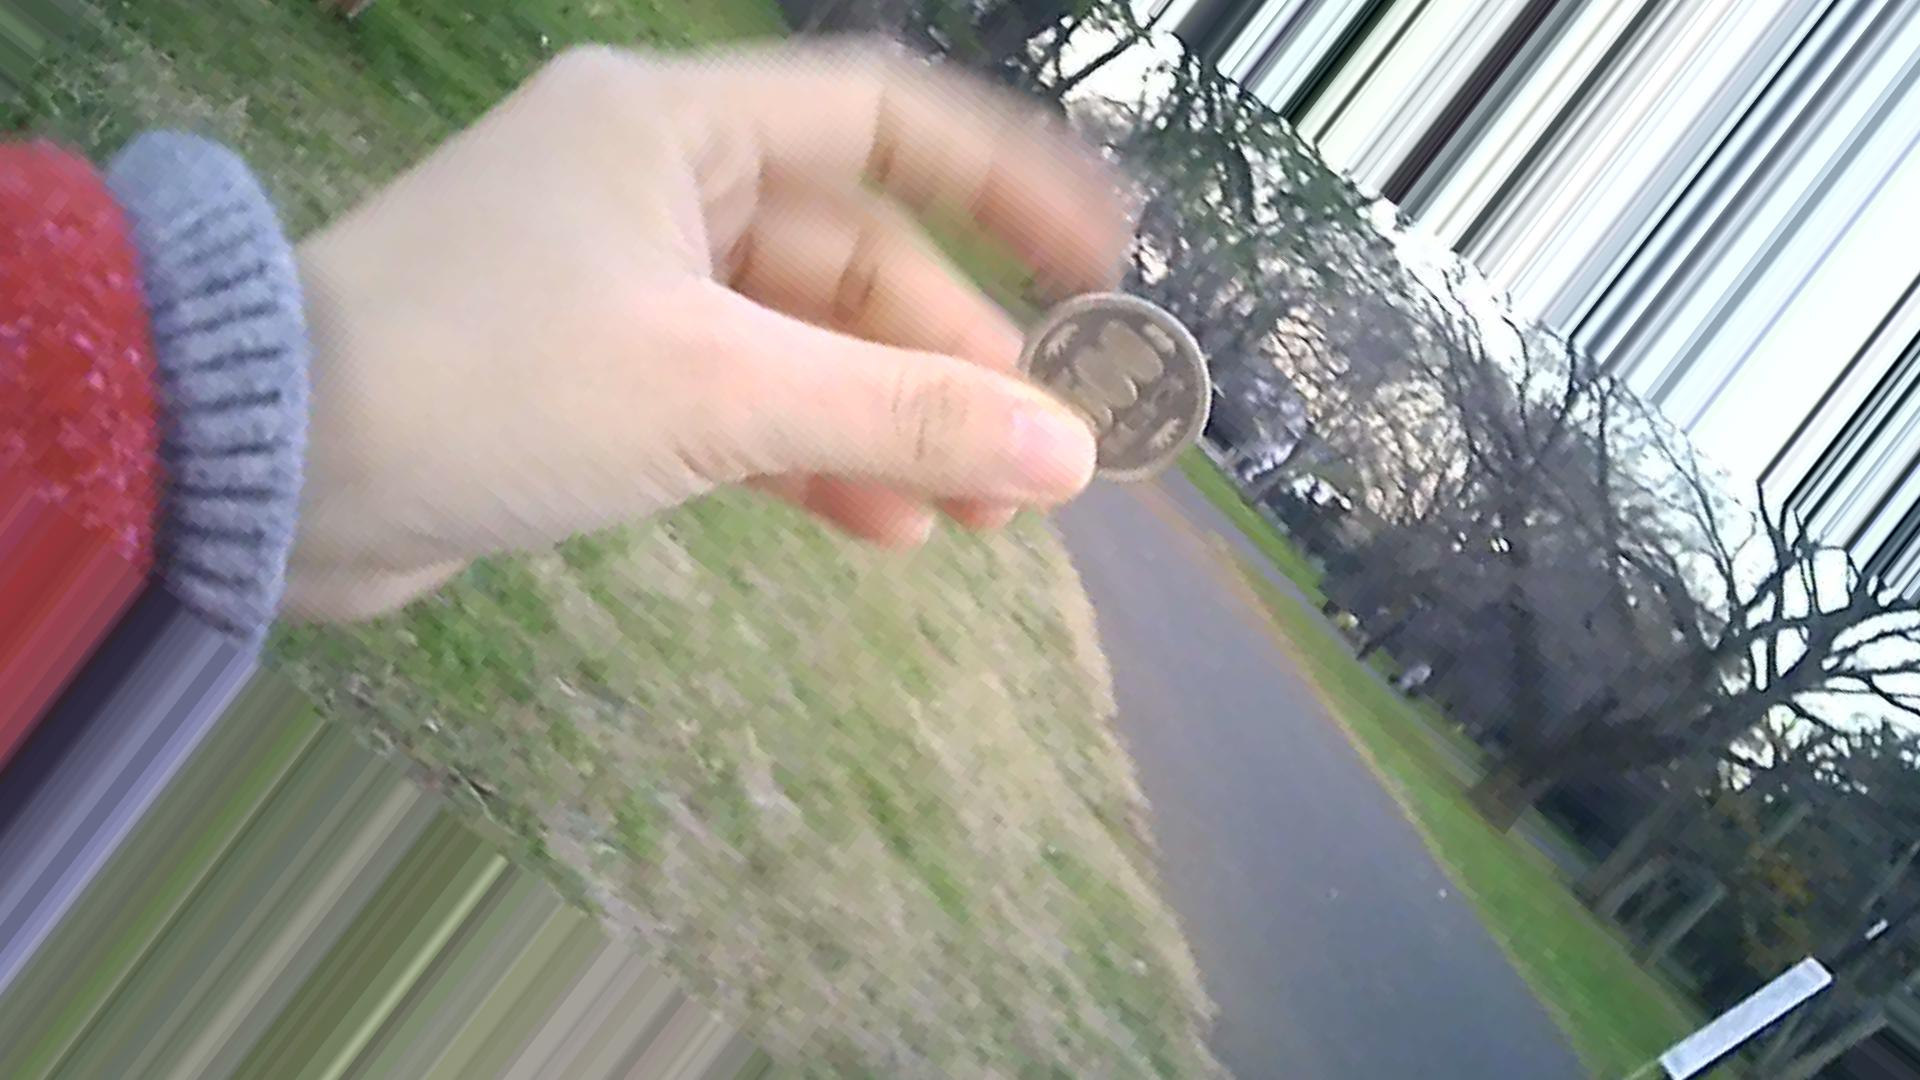500 Yen: (1009, 291, 1222, 483)
